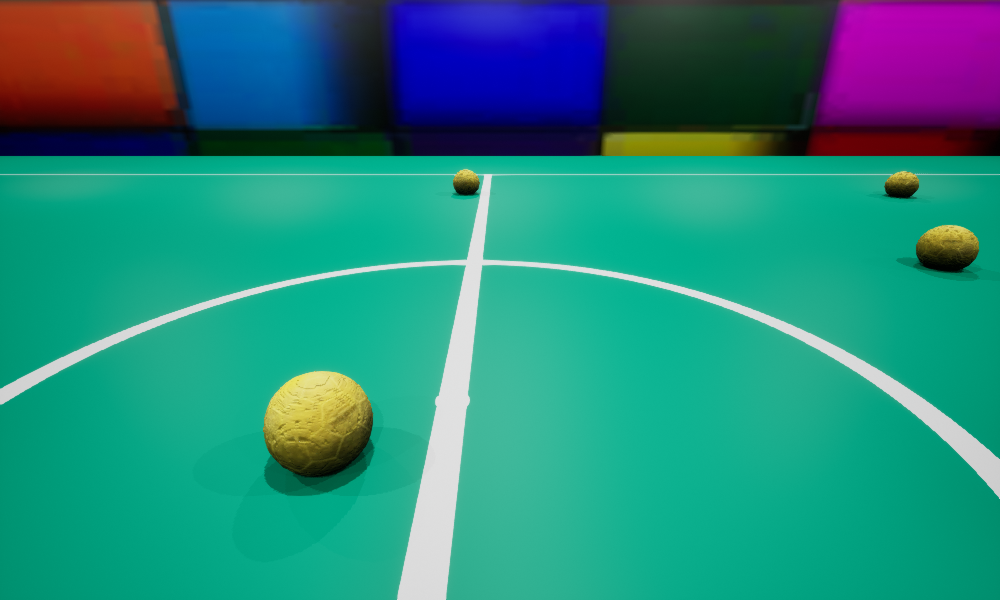b: (263, 371, 372, 475), (916, 225, 978, 270), (884, 171, 918, 197), (453, 169, 479, 194)
